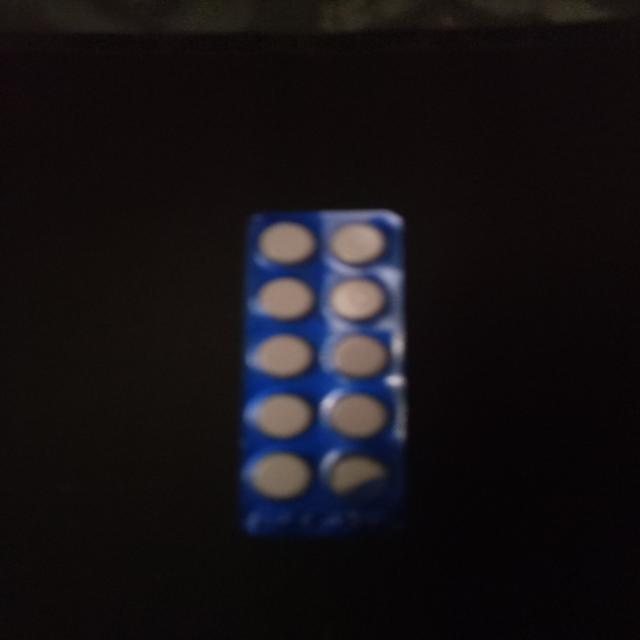defect: (316, 445, 396, 509)
